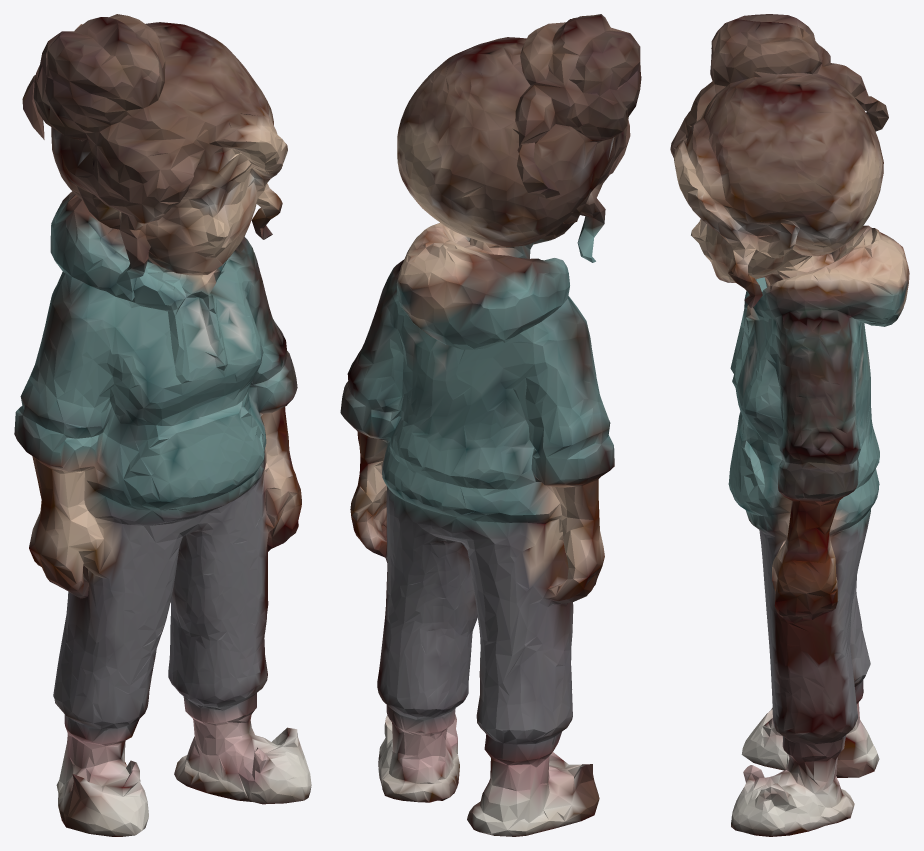
The model's file is valeria_hunyuan.glb.
3 views of the same model, side by side, from view 1: azimuth 30°, elevation 25°; view 2: azimuth 150°, elevation 25°; view 3: azimuth 270°, elevation 25° (orthographic). The views are drawn at different scales.
Parts seen in each view (by area): view 1: geometry_0; view 2: geometry_0; view 3: geometry_0.
Part boxes in pixels (x1,y1,x2,y2): geometry_0: (14, 14, 311, 836); geometry_0: (340, 14, 641, 836); geometry_0: (670, 14, 909, 836).
Bounding box in the file's own units: 0.683 × 1.96 × 0.5807.
